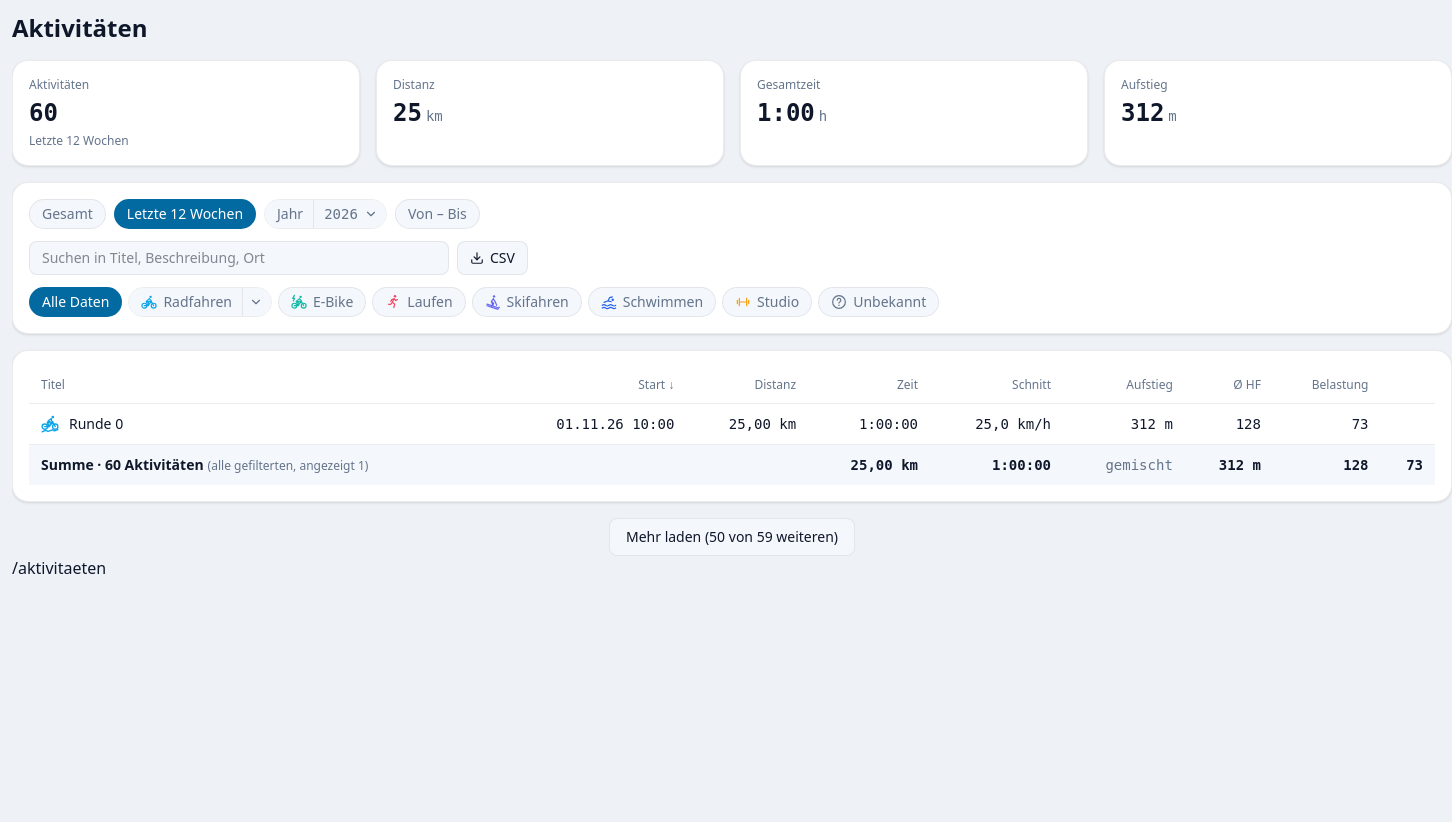
Test case: Aktivitätenliste › Mehr laden holt die nächste Seite
Expected: the link "Runde 0" is shown, [69, 414, 123, 434]
Click the button "Mehr laden (50 von 59 weiteren)": (732, 537) [609, 518, 855, 556]
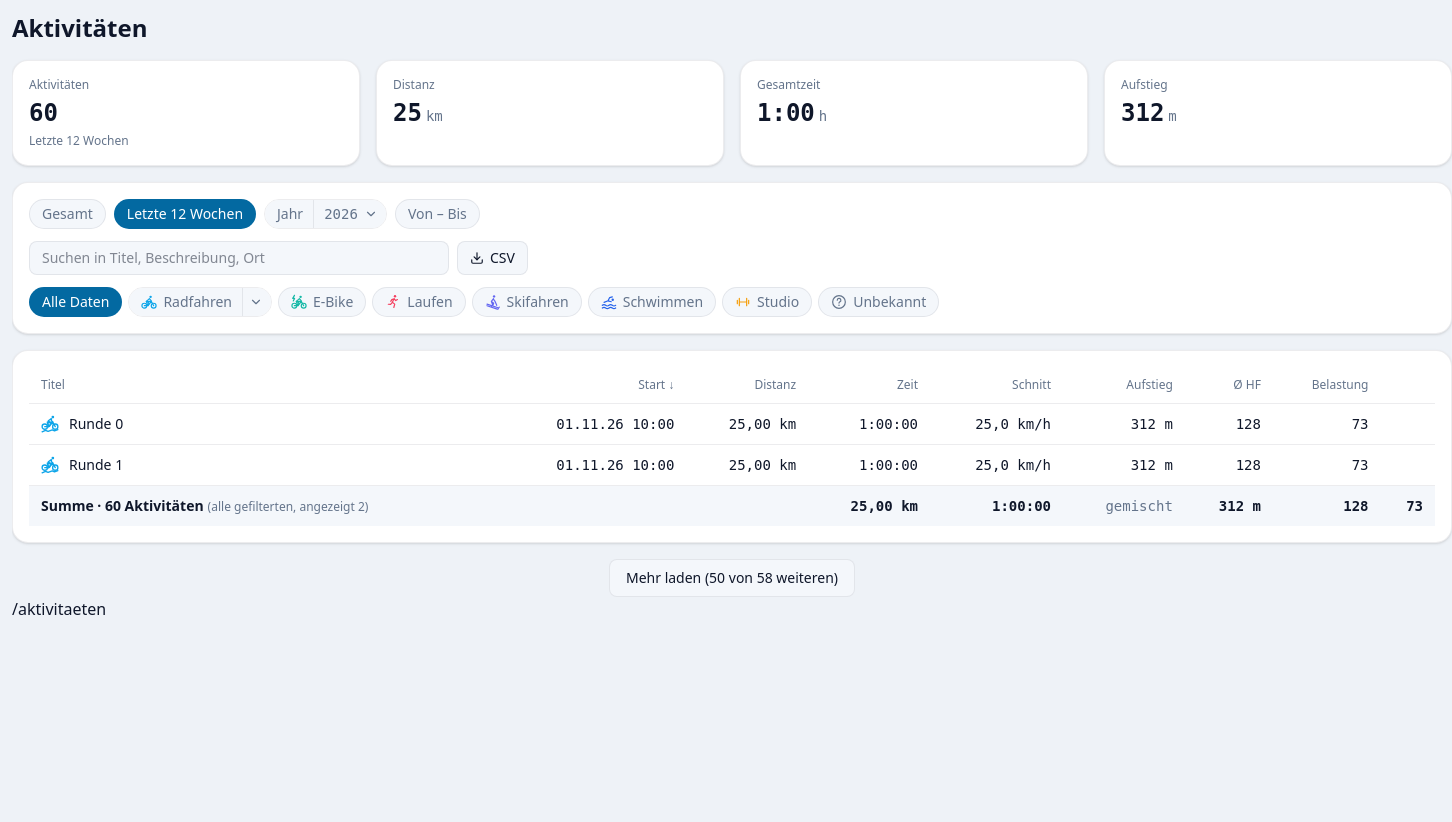
Expected: the link "Runde 1" is shown, [69, 455, 123, 475]
